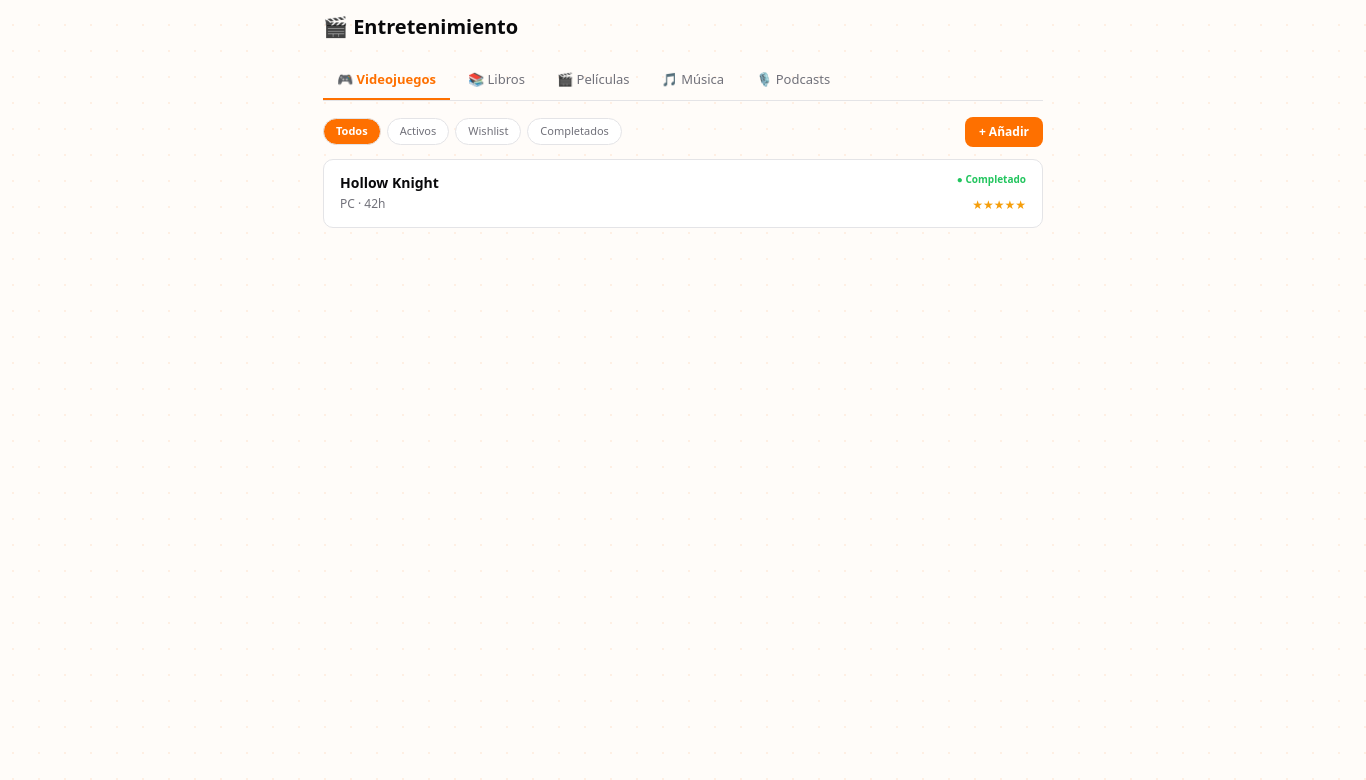
Test: Entretenimiento › switches to Música tab
Click the button "🎵 Música".
click(693, 81)  # box [648,62,738,100]
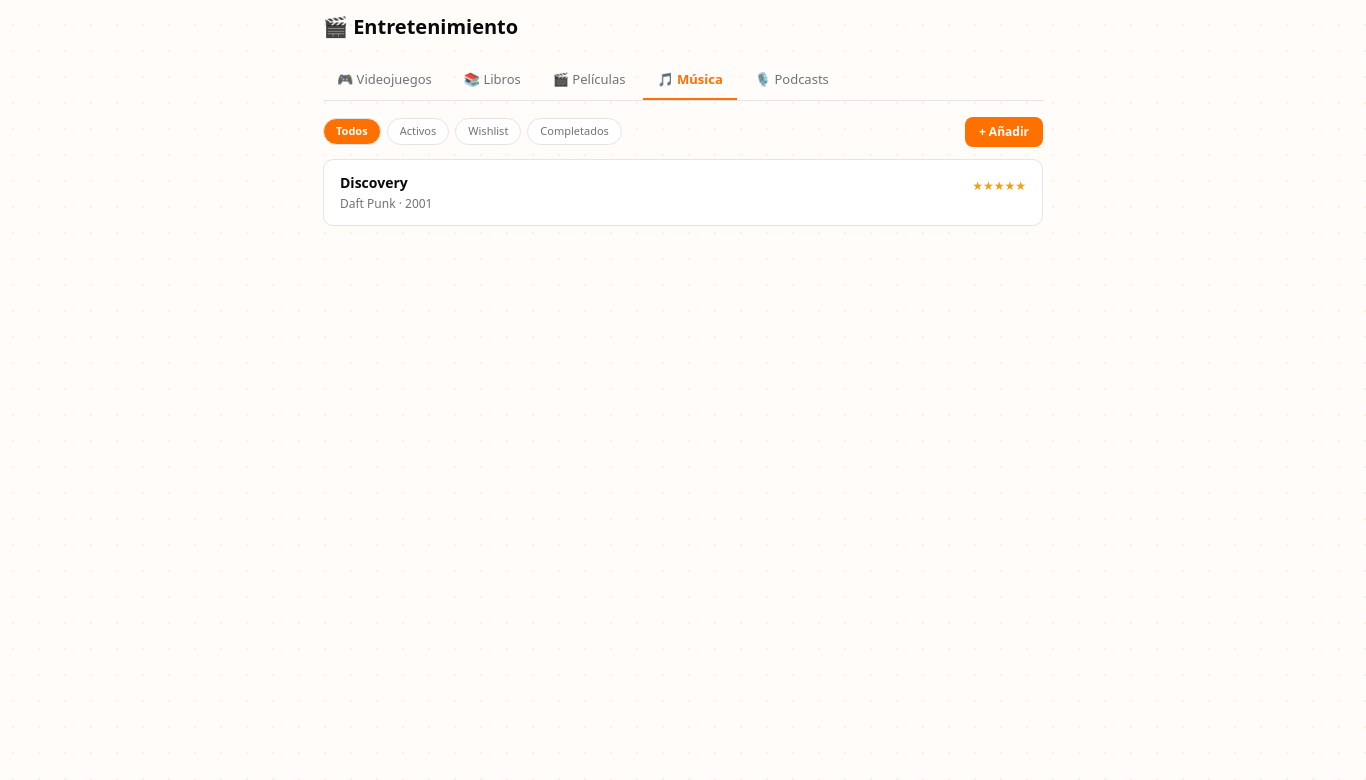
Now the text "Discovery" is shown, box [340,172,408,192]
